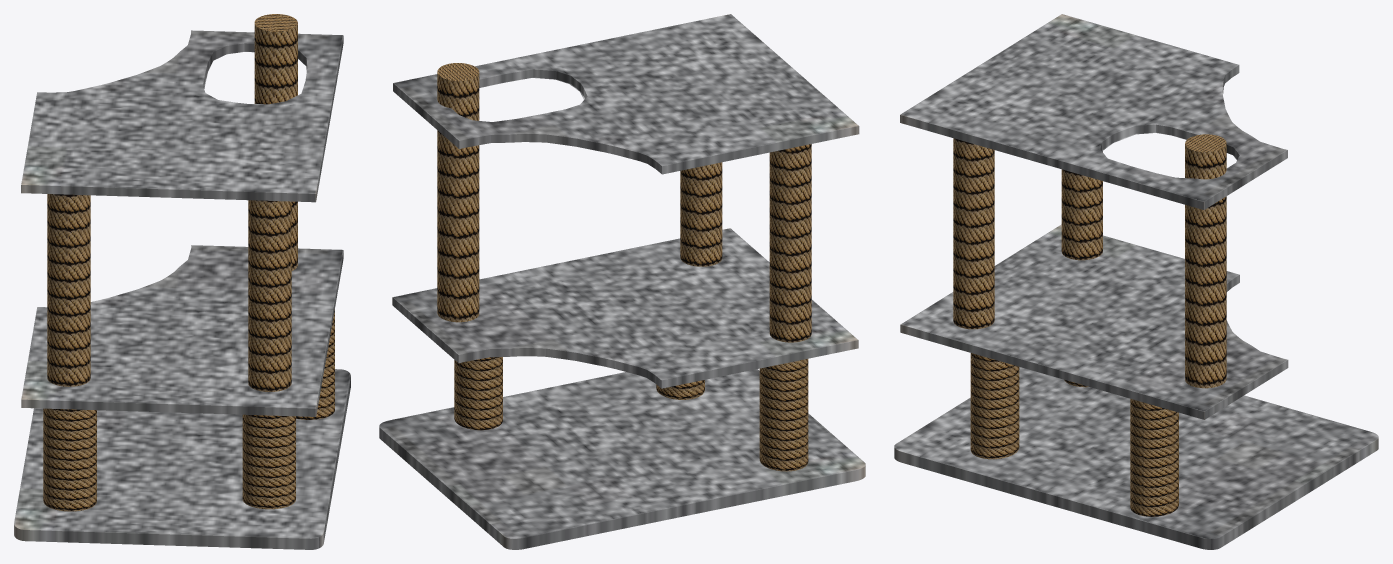
The model's file is house6.gltf.
3 renders of one model, left to right at view 1: azimuth 30°, elevation 25°; view 2: azimuth 150°, elevation 25°; view 3: azimuth 270°, elevation 25°, orthographic. The views are drawn at different scales.
Visible parts, largest first — view 1: Плоскость.002, Плоскость.001, Плоскость, Цилиндр.004, Цилиндр.003, Цилиндр, Цилиндр.001, Цилиндр.005, Цилиндр.002; view 2: Плоскость, Плоскость.002, Плоскость.001, Цилиндр.005, Цилиндр.004, Цилиндр, Цилиндр.003, Цилиндр.002, Цилиндр.001; view 3: Плоскость, Плоскость.002, Плоскость.001, Цилиндр.005, Цилиндр.003, Цилиндр.002, Цилиндр.001, Цилиндр.004.
Boxes of the visible parts, x1=… form: Плоскость.002: x1=21, y1=30, x2=343, y2=202; Плоскость.001: x1=21, y1=245, x2=343, y2=416; Плоскость: x1=14, y1=369, x2=350, y2=549; Цилиндр.004: x1=47, y1=194, x2=90, y2=386; Цилиндр.003: x1=248, y1=200, x2=291, y2=391; Цилиндр: x1=43, y1=408, x2=96, y2=511; Цилиндр.001: x1=242, y1=414, x2=295, y2=509; Цилиндр.005: x1=254, y1=14, x2=297, y2=270; Цилиндр.002: x1=296, y1=309, x2=334, y2=419; Плоскость: x1=379, y1=369, x2=865, y2=549; Плоскость.002: x1=393, y1=14, x2=859, y2=174; Плоскость.001: x1=392, y1=228, x2=858, y2=388; Цилиндр.005: x1=437, y1=63, x2=479, y2=322; Цилиндр.004: x1=769, y1=144, x2=811, y2=342; Цилиндр: x1=759, y1=359, x2=808, y2=471; Цилиндр.003: x1=680, y1=162, x2=722, y2=266; Цилиндр.002: x1=454, y1=357, x2=502, y2=430; Цилиндр.001: x1=656, y1=380, x2=704, y2=399; Плоскость: x1=894, y1=367, x2=1378, y2=549; Плоскость.002: x1=900, y1=14, x2=1287, y2=209; Плоскость.001: x1=900, y1=224, x2=1288, y2=419; Цилиндр.005: x1=1185, y1=134, x2=1226, y2=388; Цилиндр.003: x1=953, y1=138, x2=994, y2=329; Цилиндр.002: x1=1130, y1=399, x2=1178, y2=516; Цилиндр.001: x1=970, y1=353, x2=1019, y2=459; Цилиндр.004: x1=1061, y1=169, x2=1102, y2=260.
Bounding box in the file's own units: 4.48 × 3.98 × 4.71.
Materials: 9 (9 with a texture image).
